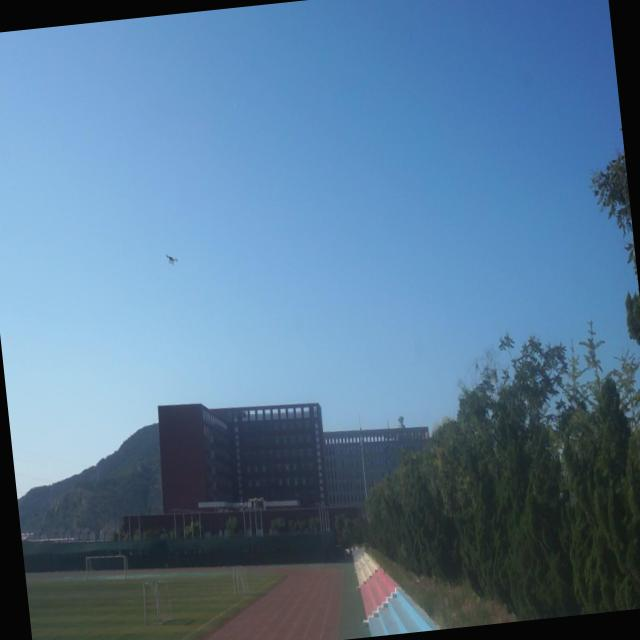drone: (162, 246, 182, 274)
